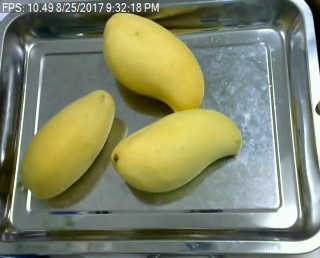Mango: (111, 107, 243, 193), (19, 88, 114, 199), (101, 11, 204, 112)
